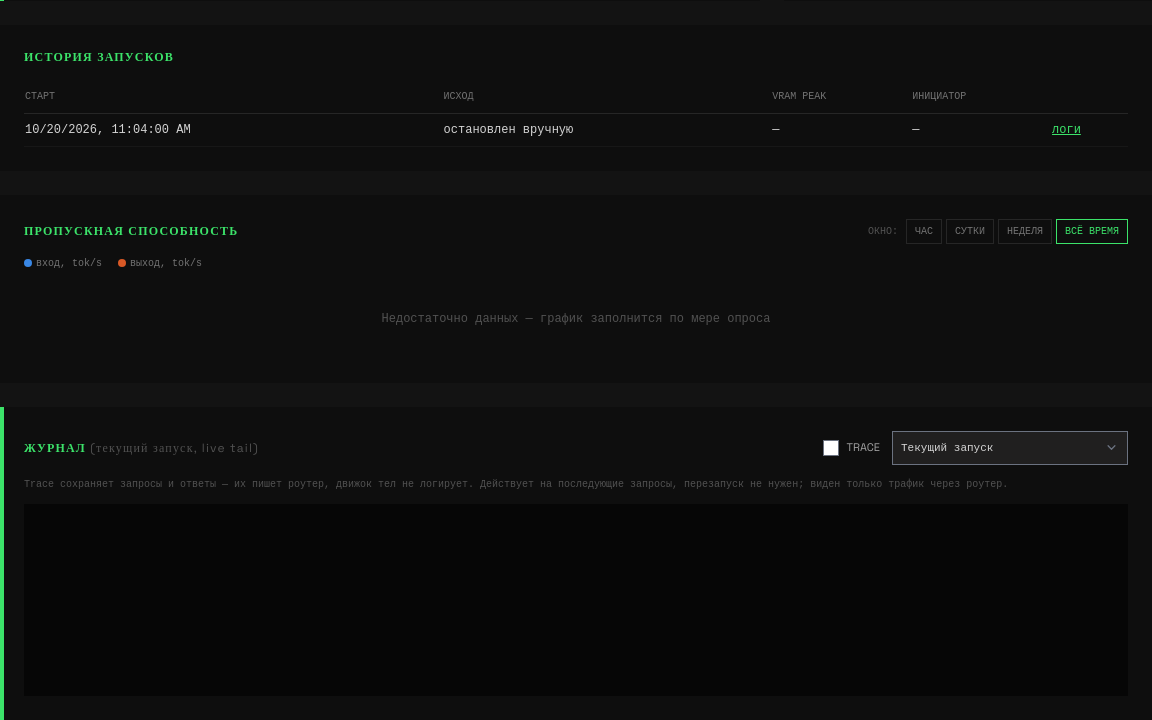
Scenario: InferenceDetailPage — журналы запусков › запуск без журнала объяснён, а не показан пустым списком строк
This screenshot has width=1152, height=720.
(page scrolled)
Select "20.10.2026, 11:04:00 — остановлен" in the dropdown with test id "run-select" at [1010, 448], box [892, 430, 1128, 464]
(page scrolled)
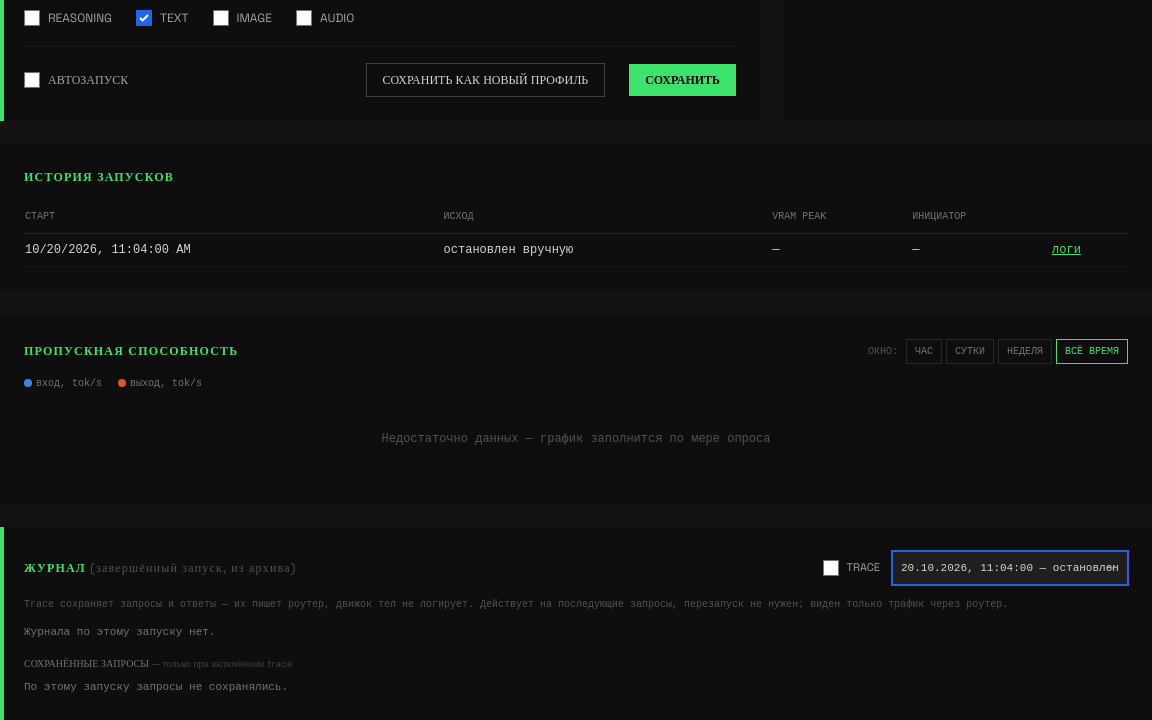
Expected: the text "Журнала по этому запуску нет." is shown, [24, 626, 215, 638]
